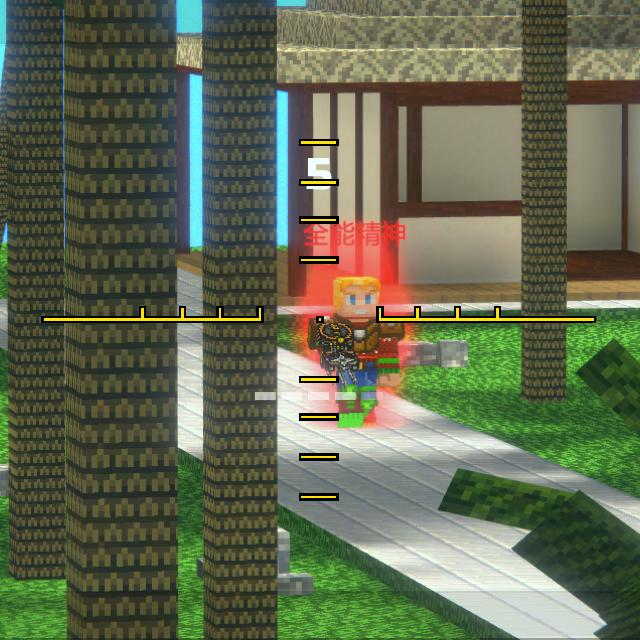Enemy: (307, 276, 405, 428)
